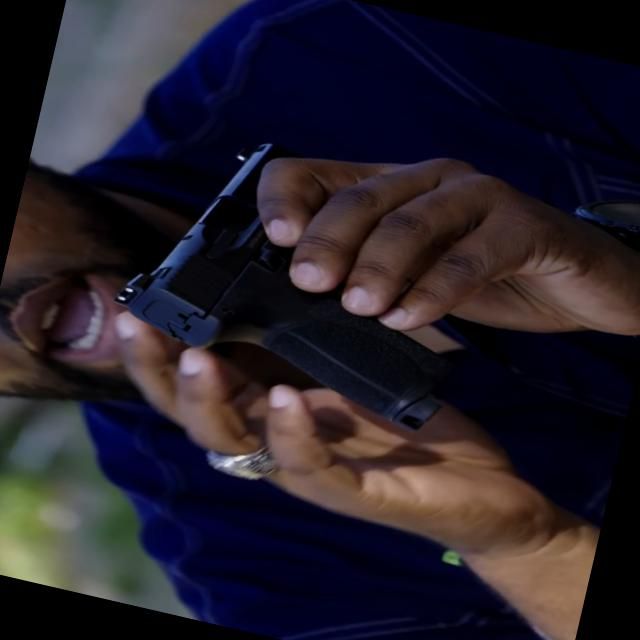handgun: (86, 108, 503, 444)
